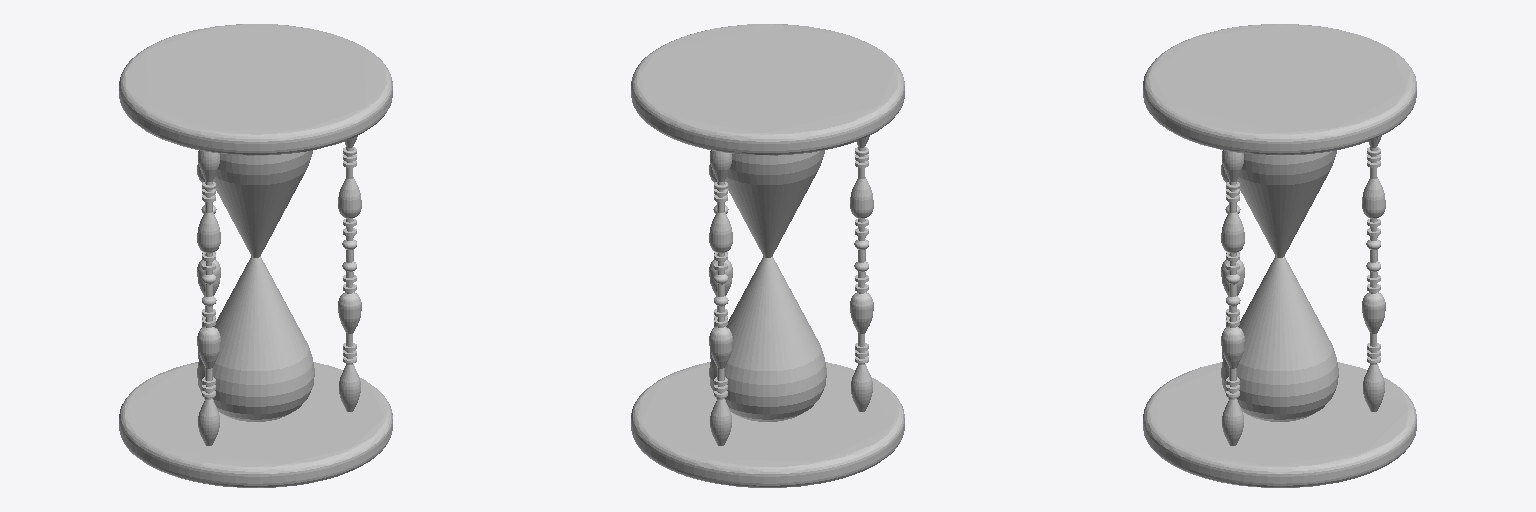
Rendered from Sand_Watch_tri_back.obj.
3 views of the same model, side by side, from view 1: azimuth 30°, elevation 25°; view 2: azimuth 150°, elevation 25°; view 3: azimuth 270°, elevation 25° (orthographic).
Parts seen in each view (by area): view 1: Top, Bottom, Glass, Stand_Lathe_NURBS_2, Stand_Lathe_NURBS_1; view 2: Top, Bottom, Glass, Stand_Lathe_NURBS_0, Stand_Lathe_NURBS_2; view 3: Top, Bottom, Glass, Stand_Lathe_NURBS_1, Stand_Lathe_NURBS_0.
Part boxes in pixels (x1,y1,x2,y2): Top: (119, 24, 392, 155); Bottom: (119, 362, 392, 487); Glass: (197, 150, 314, 421); Stand_Lathe_NURBS_2: (197, 150, 220, 445); Stand_Lathe_NURBS_1: (338, 136, 361, 411); Top: (631, 24, 904, 155); Bottom: (631, 362, 904, 487); Glass: (709, 150, 826, 421); Stand_Lathe_NURBS_0: (709, 150, 732, 445); Stand_Lathe_NURBS_2: (850, 136, 873, 411); Top: (1143, 24, 1416, 155); Bottom: (1143, 362, 1416, 487); Glass: (1221, 150, 1338, 421); Stand_Lathe_NURBS_1: (1221, 150, 1244, 445); Stand_Lathe_NURBS_0: (1362, 136, 1385, 411).
Size of the model in its own units: 400 by 570 by 400.